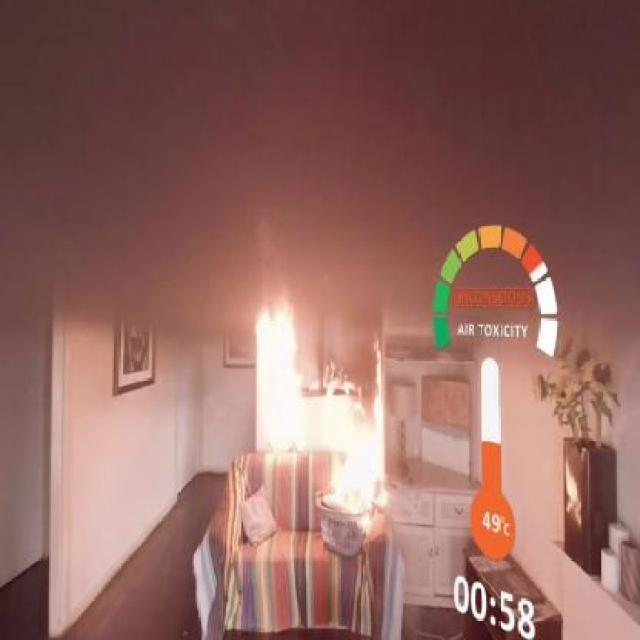fire: (245, 286, 404, 552)
smoke: (93, 26, 489, 280)
